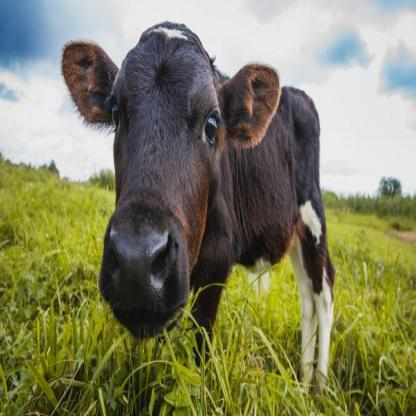cow: (60, 21, 336, 385)
